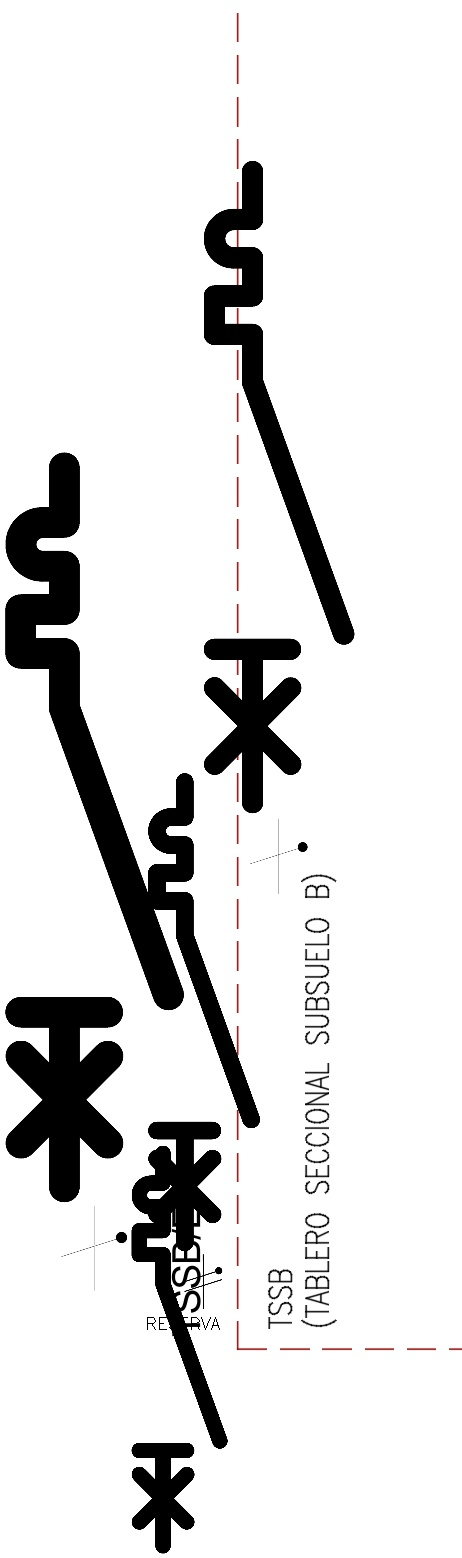interruptor_termomagnetico: (2, 449, 187, 1205), (198, 155, 360, 819), (145, 770, 263, 1254), (129, 1143, 230, 1556)
